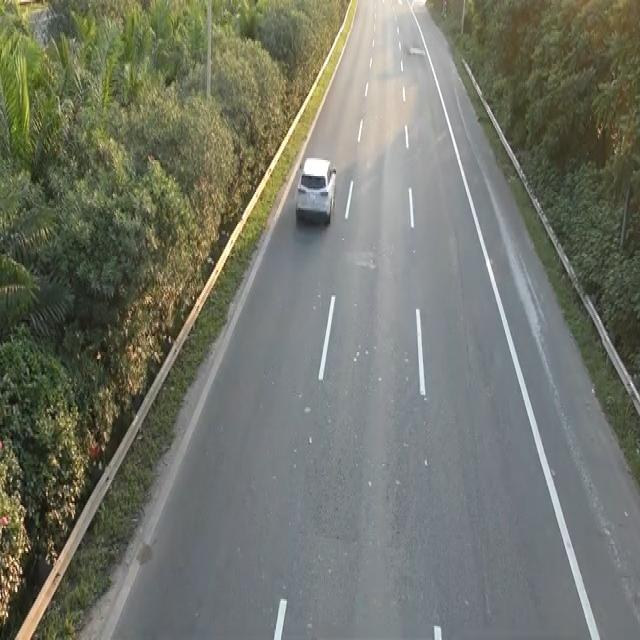car: (294, 153, 338, 226)
